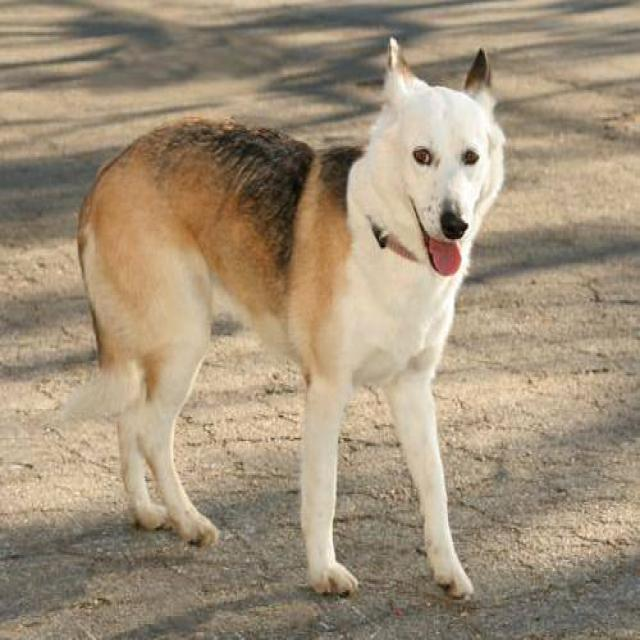dog: (60, 36, 506, 602)
